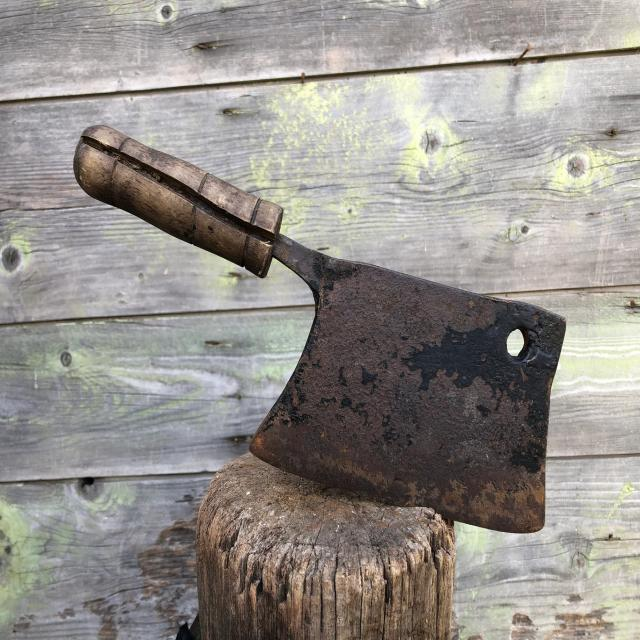cleaver: (79, 124, 546, 532)
